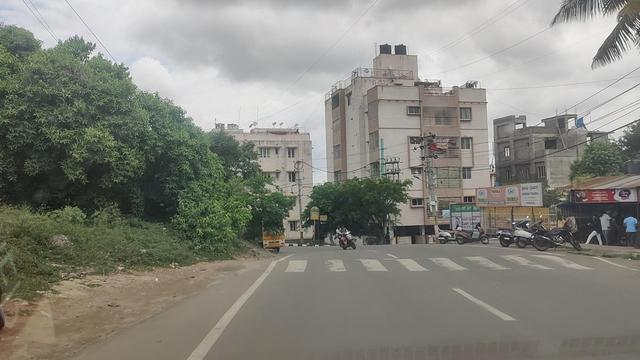SpeedBump: (270, 254, 587, 273)
